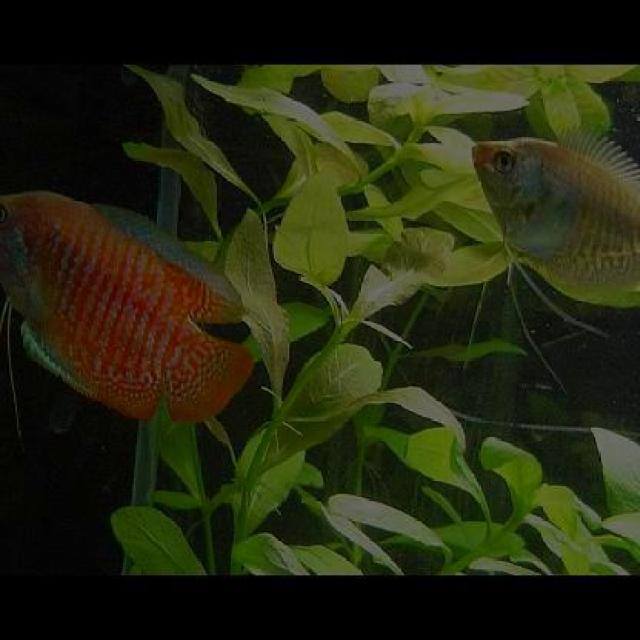Gourami: (0, 183, 254, 423), (476, 118, 638, 310)
